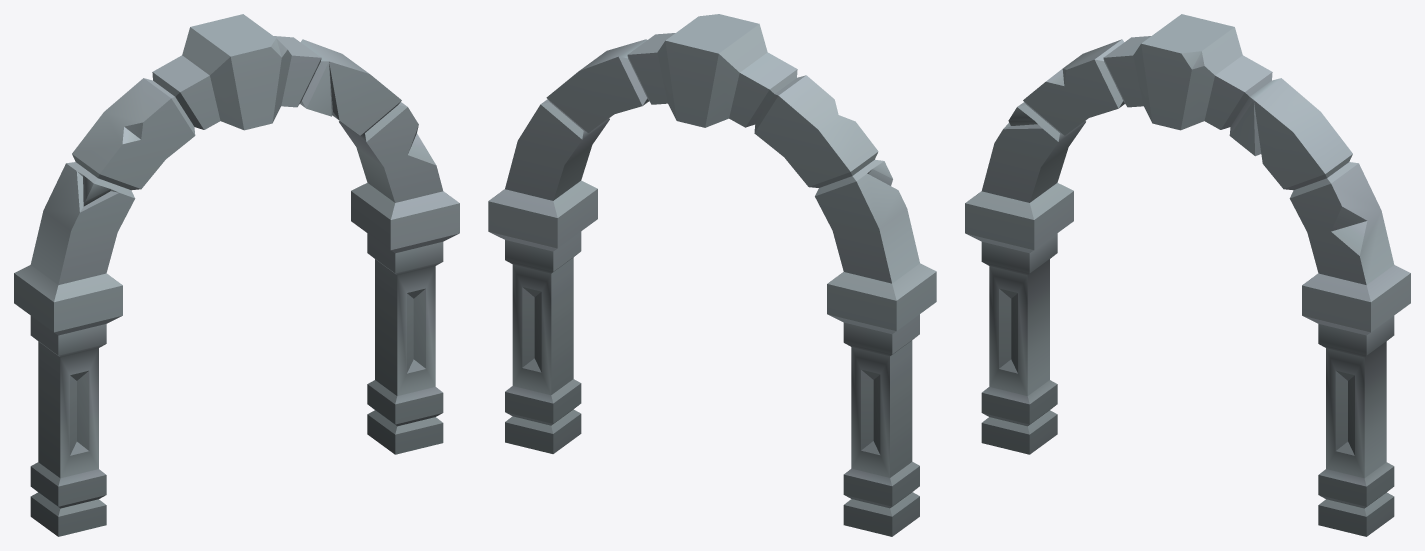
File: kay-arco-cemiterio.gltf
3 renders of one model, left to right at view 1: azimuth 30°, elevation 25°; view 2: azimuth 150°, elevation 25°; view 3: azimuth 330°, elevation 25°, orthographic.
Parts seen in each view (by area): view 1: arch; view 2: arch; view 3: arch.
Part boxes in pixels (x1,y1,x2,y2): arch: (14, 14, 459, 536); arch: (488, 14, 936, 536); arch: (965, 14, 1410, 536).
Size of the model in its own units: 2.11 by 2.21 by 0.385.
1 material, 1 textured.
